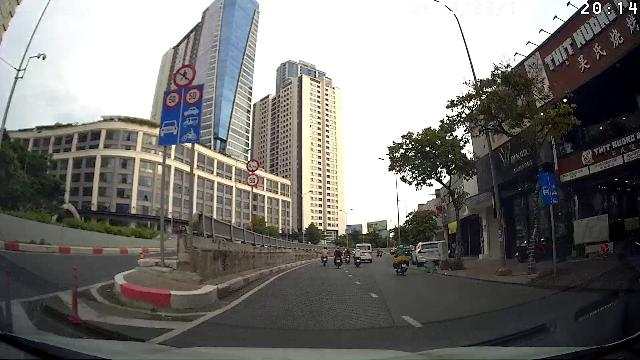127-toc-do-toi-da-50: (184, 87, 202, 106), (164, 90, 181, 108), (246, 173, 259, 187)
